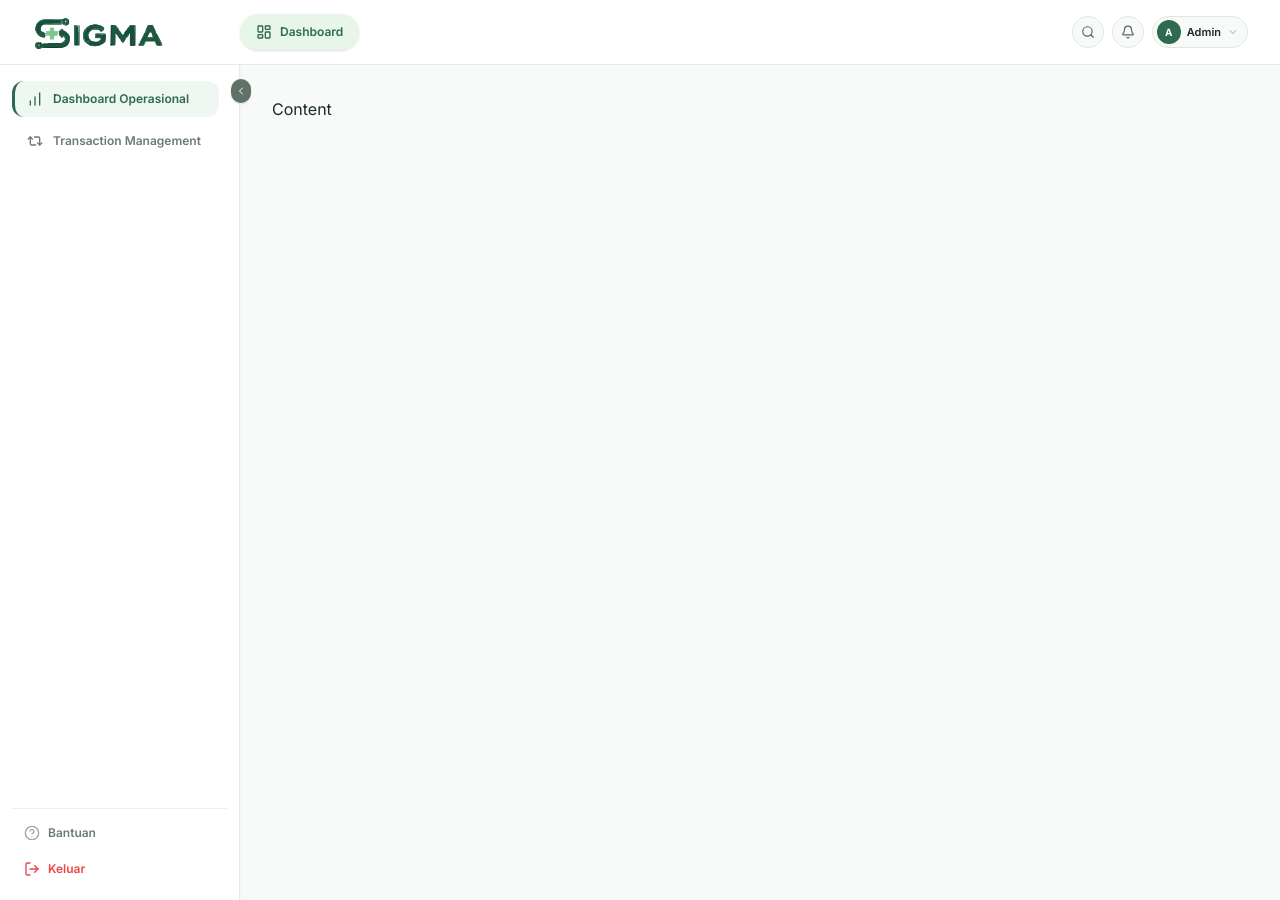
Scenario: AppShell Component (OpenBoxes Style) › renders OpenBoxes collapsible sidebar with 2 dashboards
Expected: the element named "Navigasi pintas dashboard" is shown, x1=0 y1=65 x2=240 y2=899
// Toggle collapse
Click the button named "Tutup Sidebar" at (241, 91), box x1=231 y1=79 x2=251 y2=103
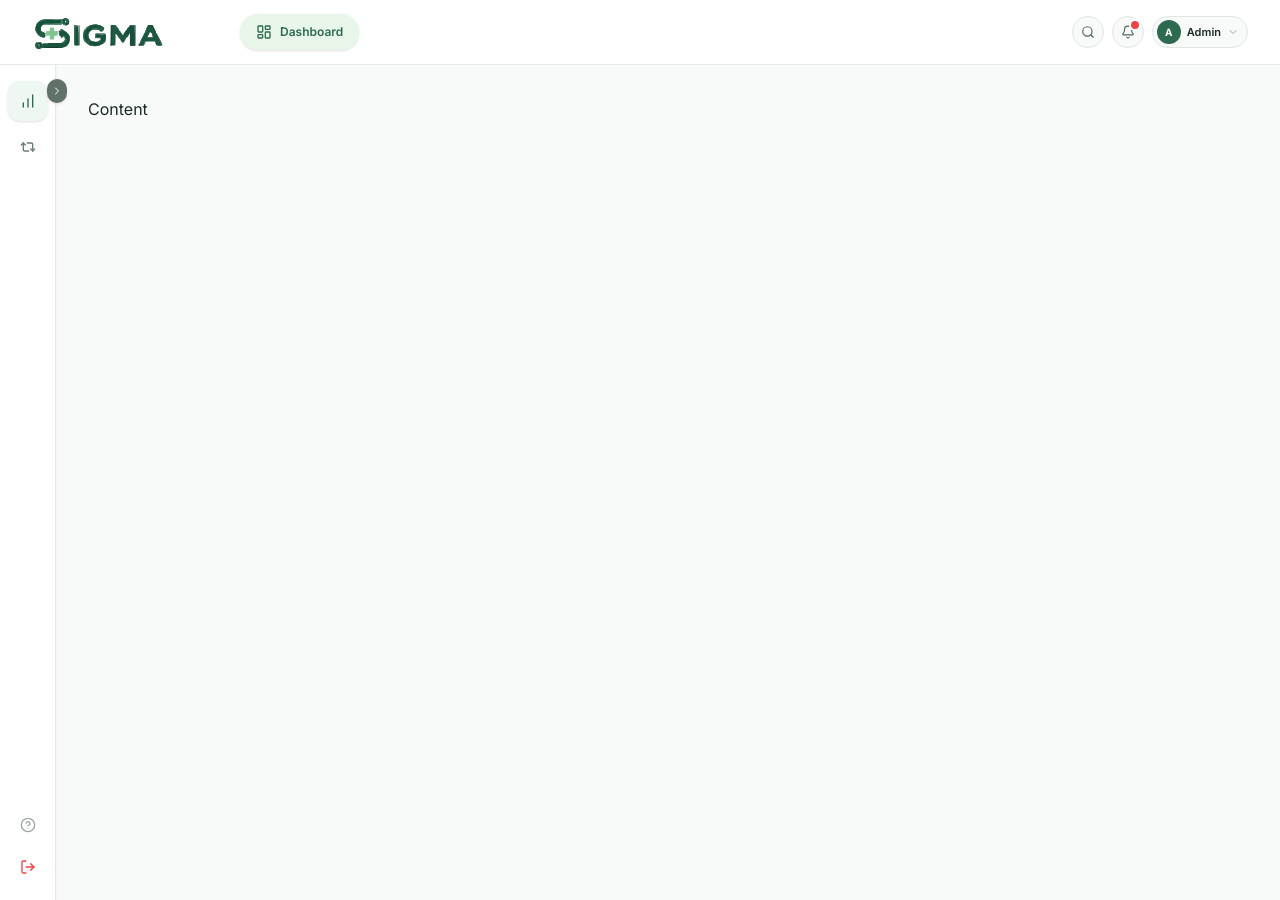
Expected: the button named "Buka Sidebar" is shown, x1=47 y1=79 x2=67 y2=103
